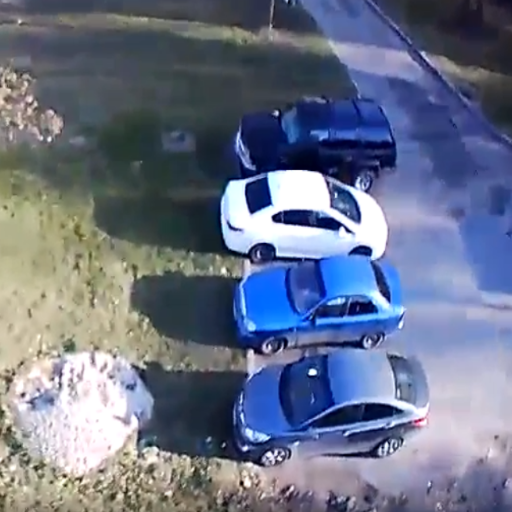Car: (232, 349, 430, 465), (231, 251, 406, 350), (233, 93, 396, 192), (220, 169, 387, 260)
